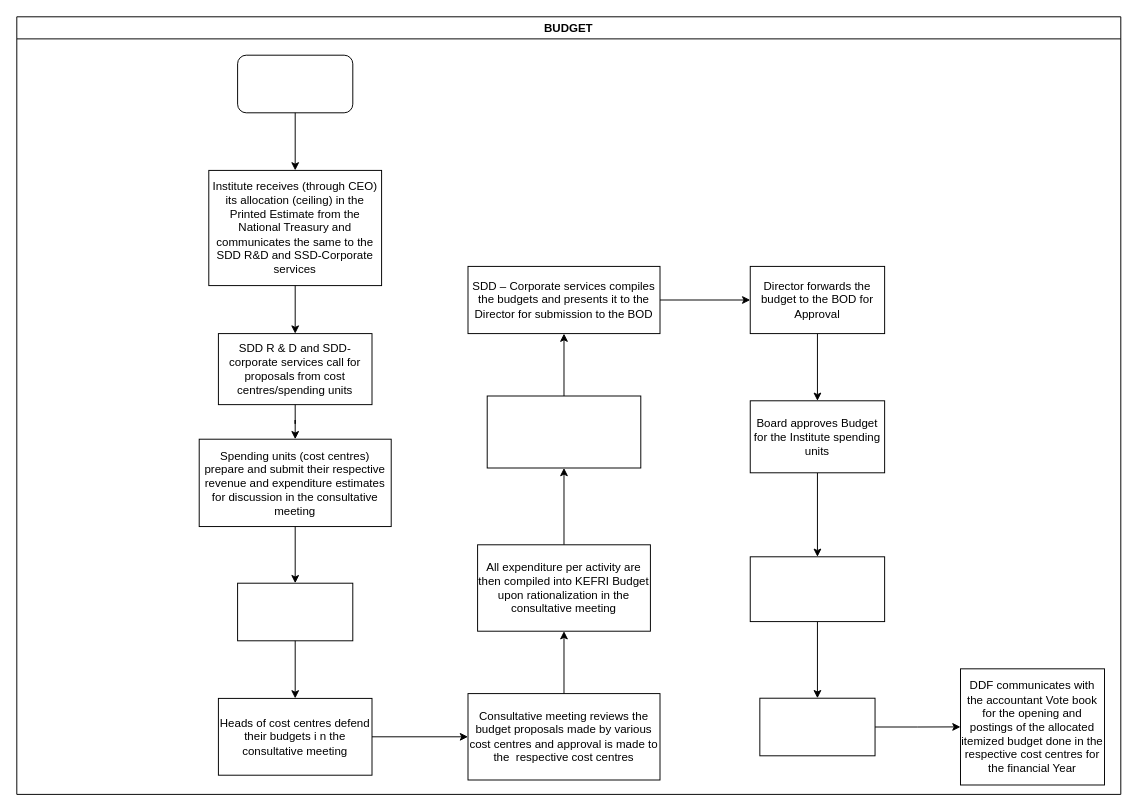
The diagram is 1138 pixels wide and 811 high, and some of its shapes have lost their labels. Each missing label, with the centre of its shape:
"DDF prepares a consolidated cost centres budget and itemized budget" belongs at pixel 563 431.
"Director convenes a consultative meeting for Budget discussion" belongs at pixel 295 611.
"Director forwards the budget to the SDD-Corporate services" belongs at pixel 817 589.
"SDDs-Corporate forwards the budget to the DDF" belongs at pixel 817 726.
"Start" belongs at pixel 295 83.
